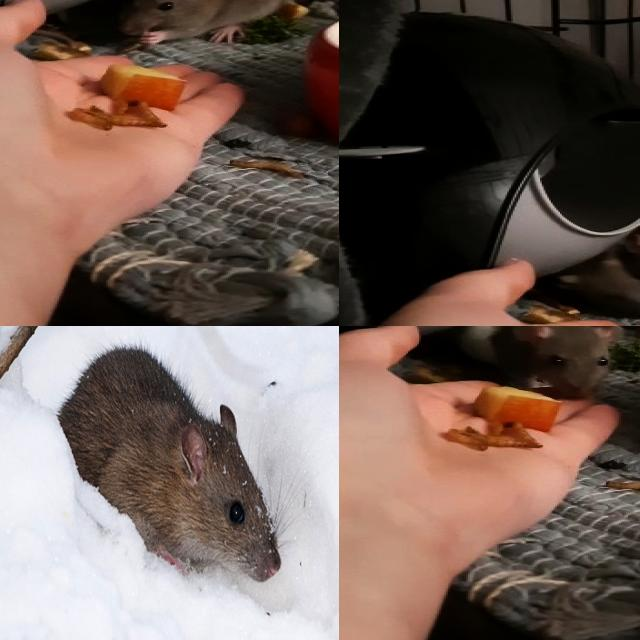rat: (58, 343, 282, 592), (444, 326, 622, 398), (116, 0, 287, 45)
